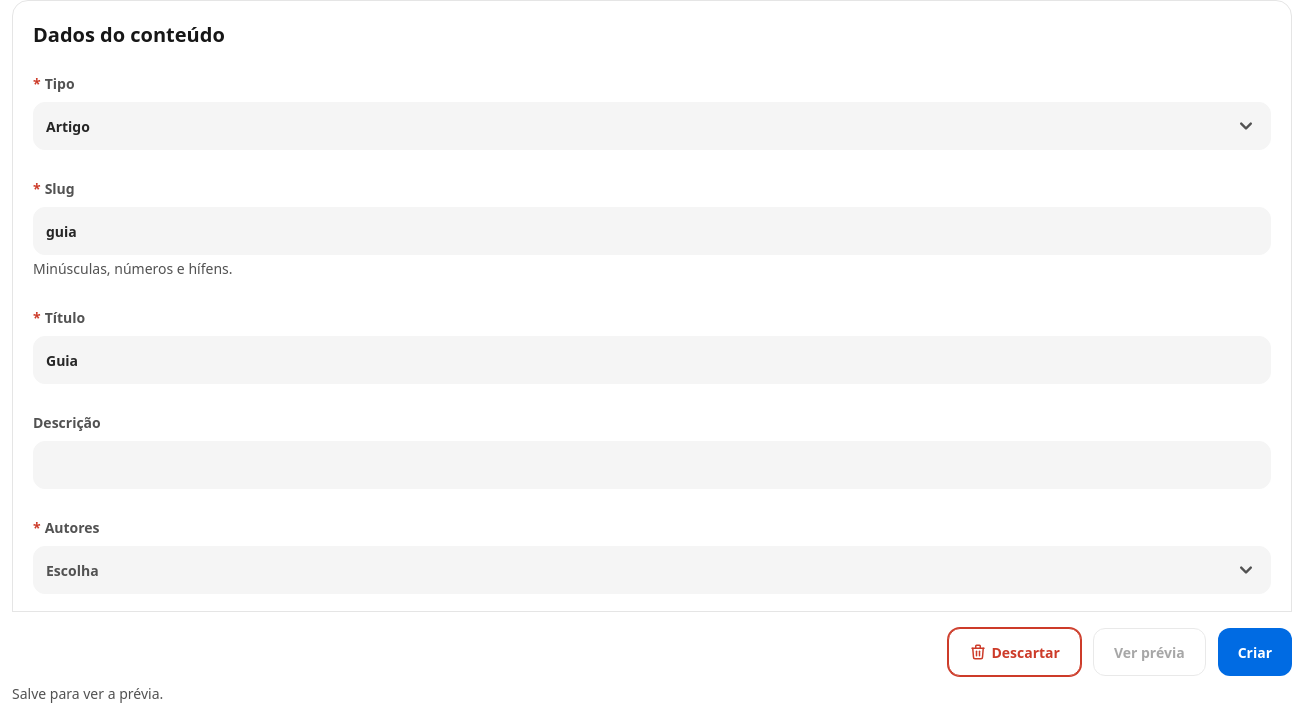
Test case: barra de ações e continuar no editor (#109) › criação (#332): "Criando…" durante o envio, e Descartar no lugar de Voltar
Click the button "Criar": {"x": 1255, "y": 652} [1218, 628, 1292, 676]
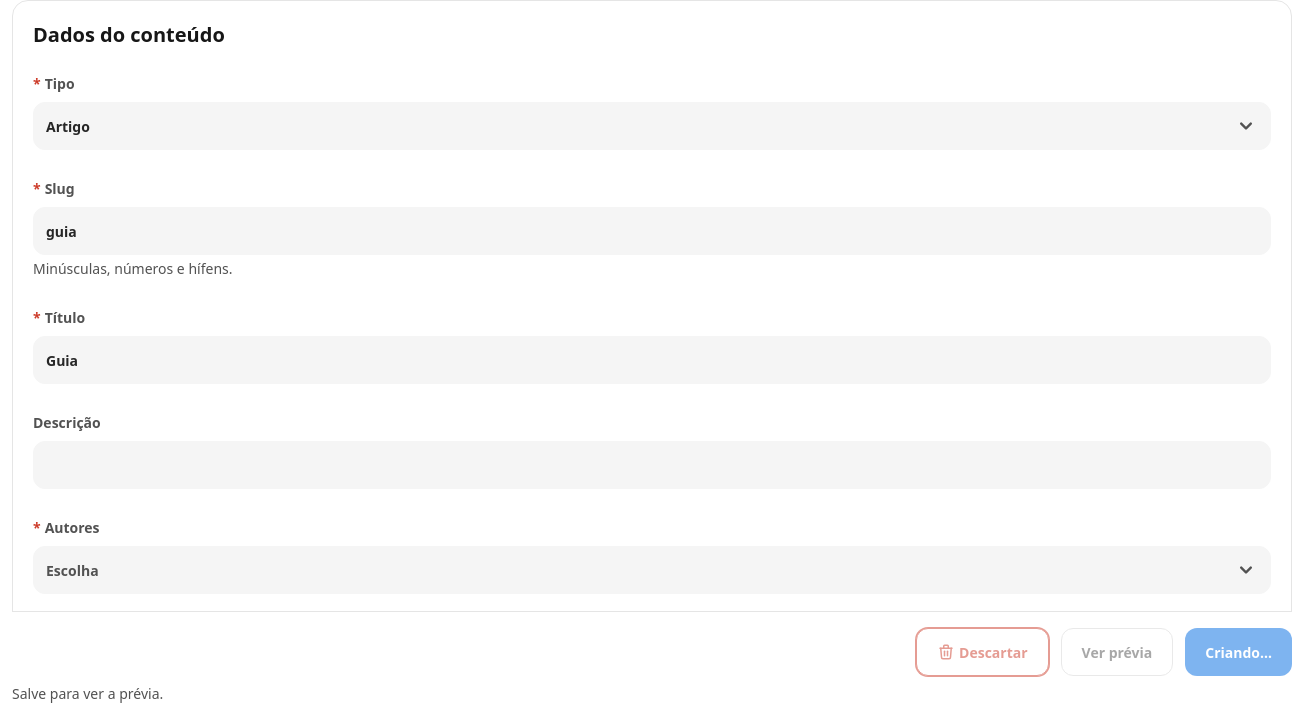
Expected: the button "Criando…" is disabled, [1185, 628, 1292, 676]
Expected: the button "Descartar" is disabled, [916, 628, 1049, 676]
